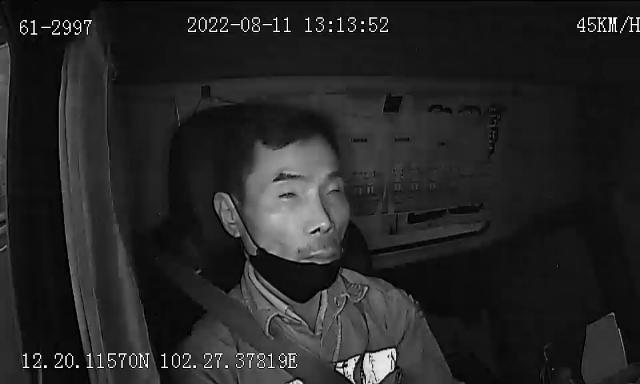SafeDriving: (417, 92, 493, 124), (271, 180, 307, 206), (320, 176, 348, 204)
Seatbelt: (180, 274, 356, 384)
